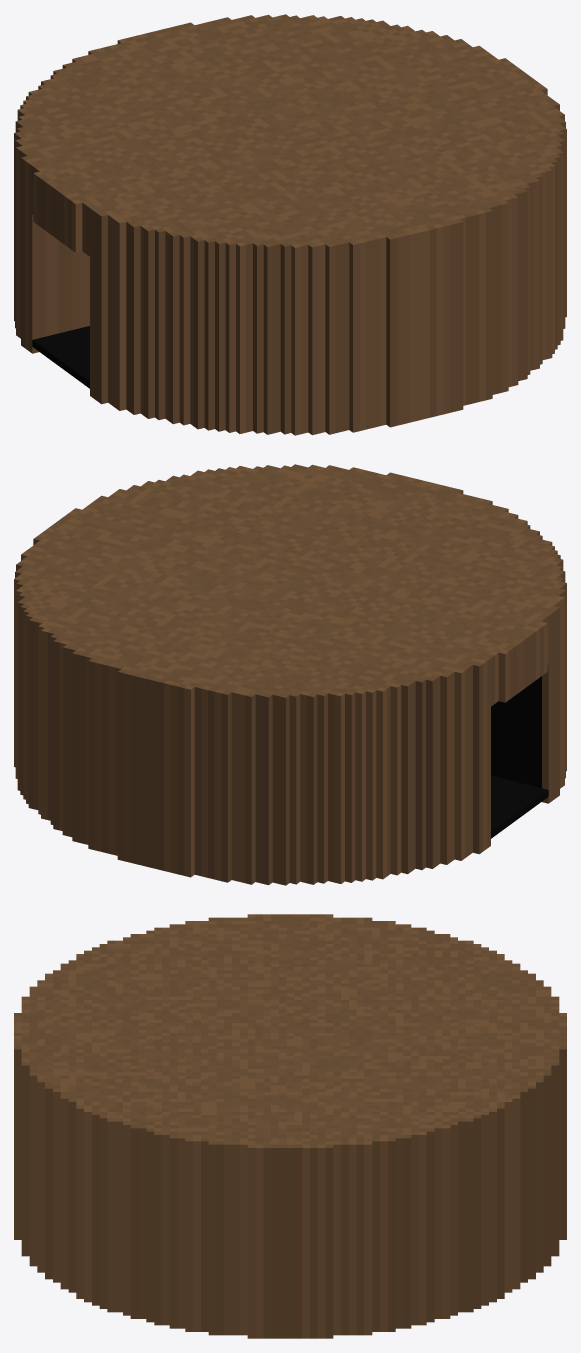
Rendered from grassy_field-6.obj.
3 renders of one model, top to bottom at view 1: azimuth 30°, elevation 25°; view 2: azimuth 150°, elevation 25°; view 3: azimuth 270°, elevation 25°, orthographic.
Bounding box in the file's own units: 7.1 × 2.7 × 7.1.
Materials: 1 (1 with a texture image).
